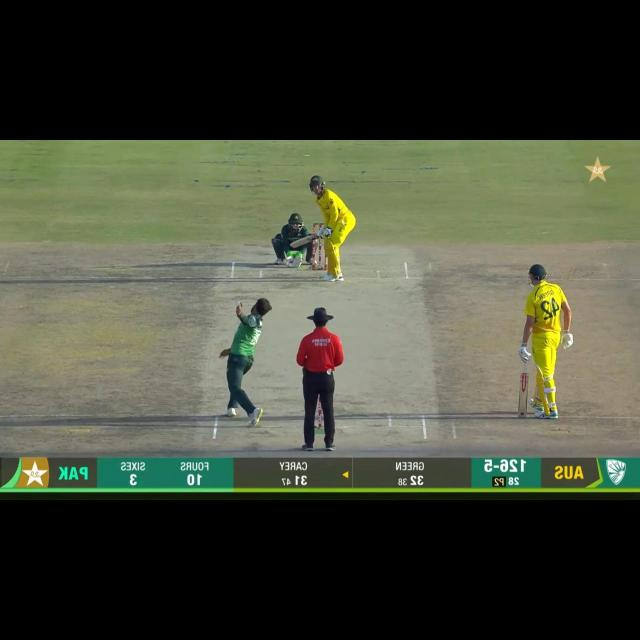bat: (290, 233, 322, 249), (518, 373, 529, 419)
toe: (290, 240, 300, 250), (518, 409, 528, 418)
